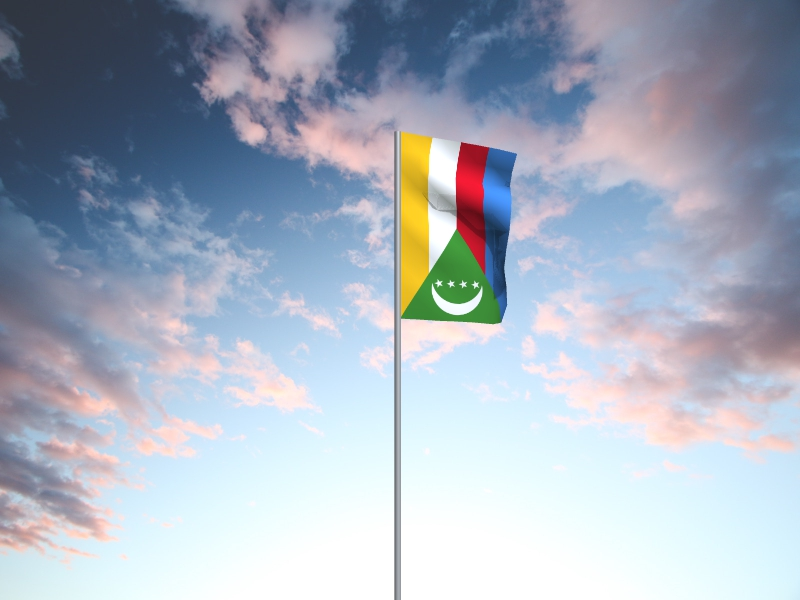km: (402, 132, 519, 326)
